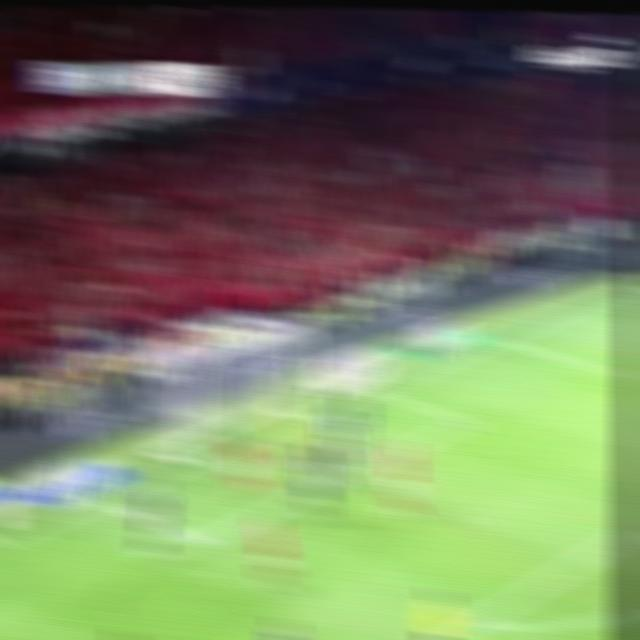bigarea_top_outter: (482, 330, 513, 349)
bottom_arc_area_intersection: (452, 602, 495, 640)
corner: (614, 278, 640, 293)
smallarea_bottom_inner: (184, 527, 220, 557)
smallarea_bottom_outter: (83, 490, 116, 513)
smallarea_top_inner: (448, 410, 478, 433)
smallarea_top_outter: (358, 382, 386, 400)
